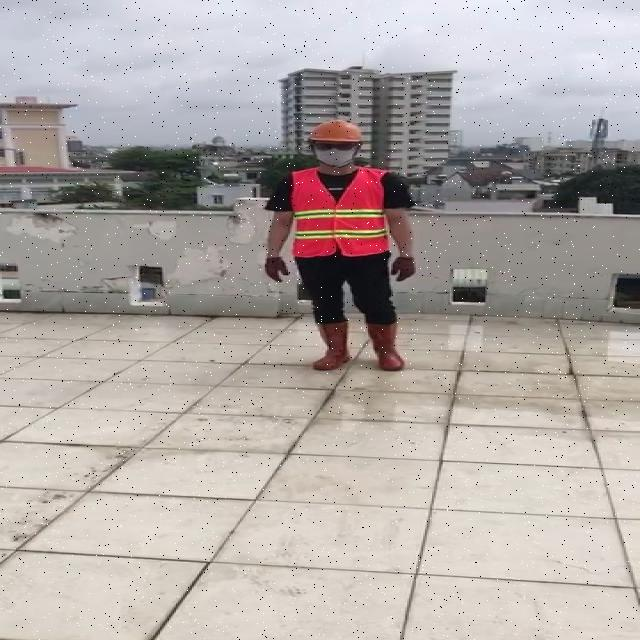Hard_hat: (305, 117, 367, 150)
Person: (258, 113, 422, 386)
Vest: (290, 167, 393, 264)
